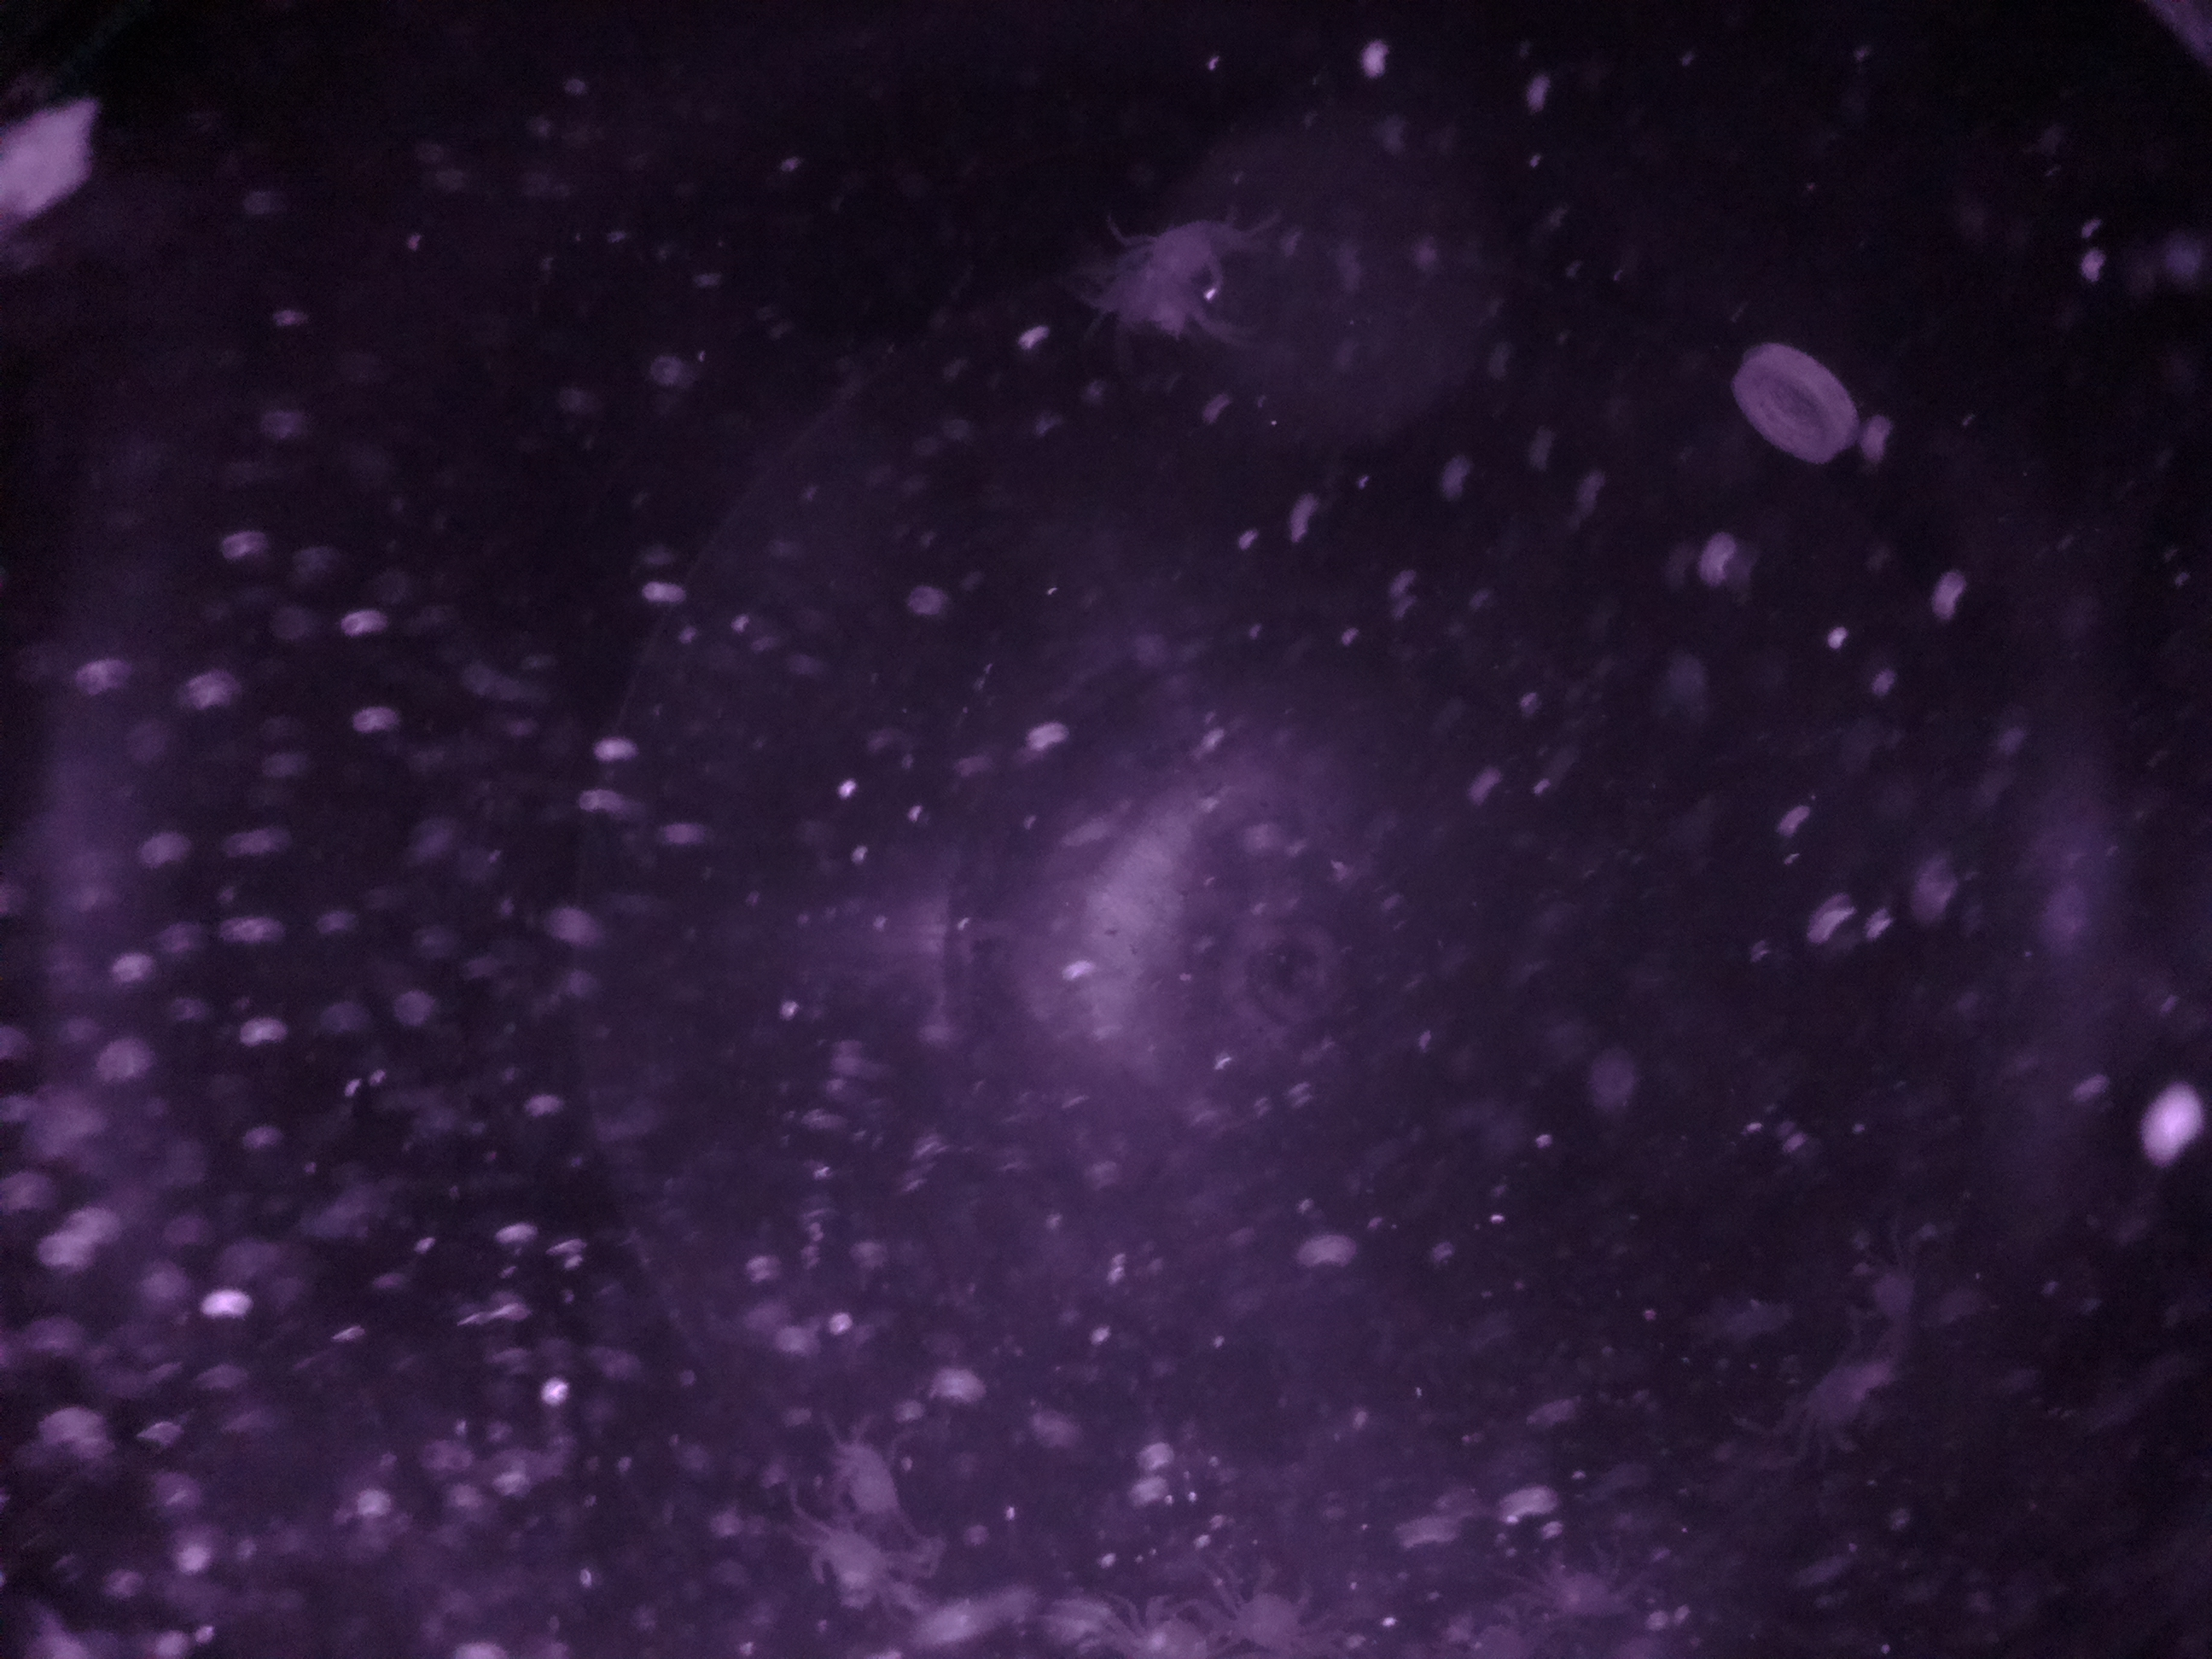Crab: (794, 1507, 913, 1622), (1071, 232, 1191, 340), (808, 1410, 911, 1520), (1122, 1568, 1237, 1659), (1233, 1540, 1320, 1659)
